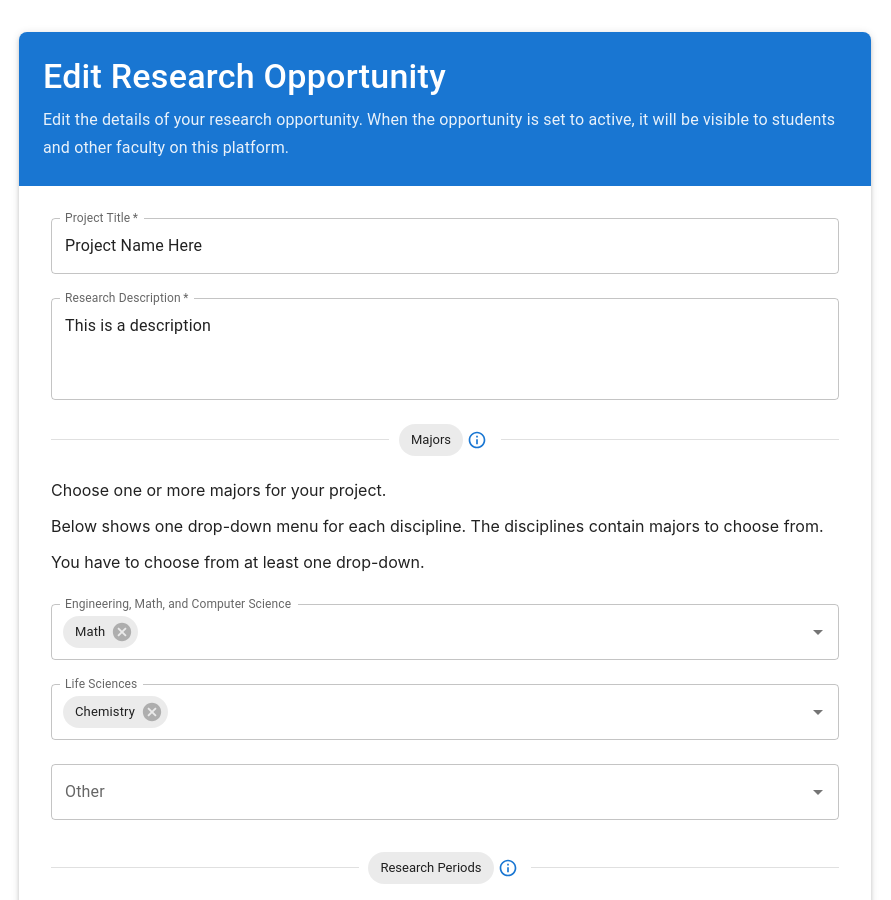
Test: ProjectEdit › displays an error message when submission fails
This screenshot has width=891, height=900.
Replace the text in the field labelled "Project Title *" with "My Special Secret Research New Name": coordinates (445, 246) [51,218,839,274]
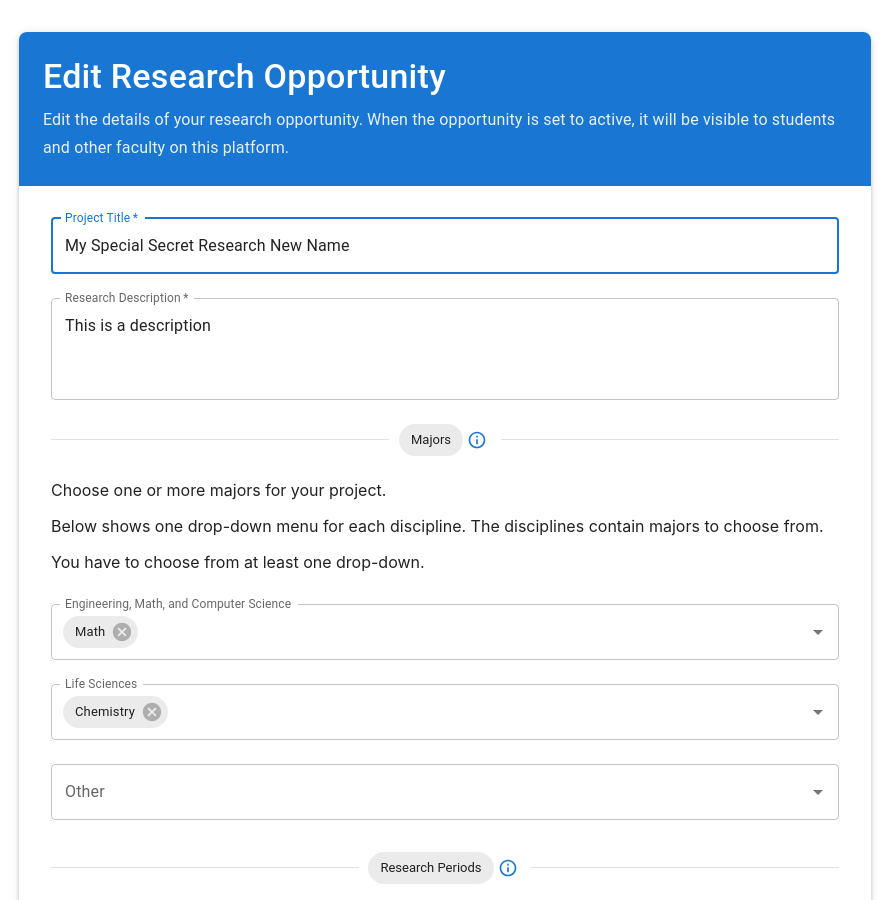
In the text box labelled "Research Description *": coordinates (445, 349) [65,314,825,384], type "This is a new description"
(page scrolled)
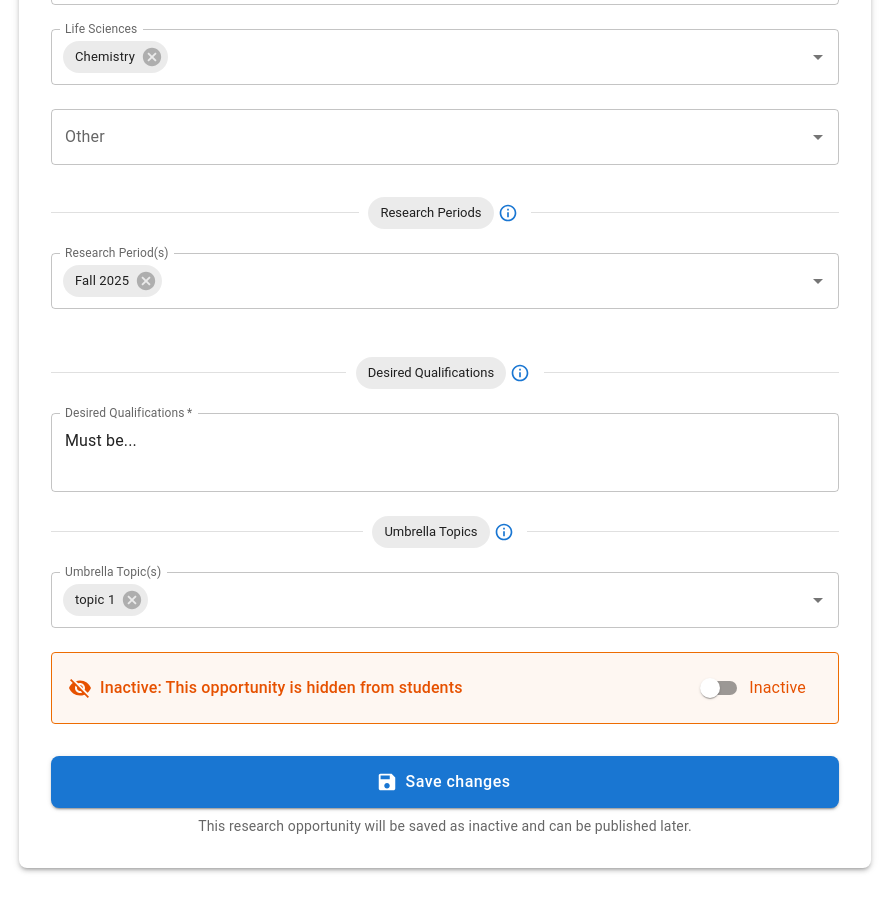
Click the button with aria-label "Submit": coordinates (445, 782) [51,756,839,808]
(page scrolled)
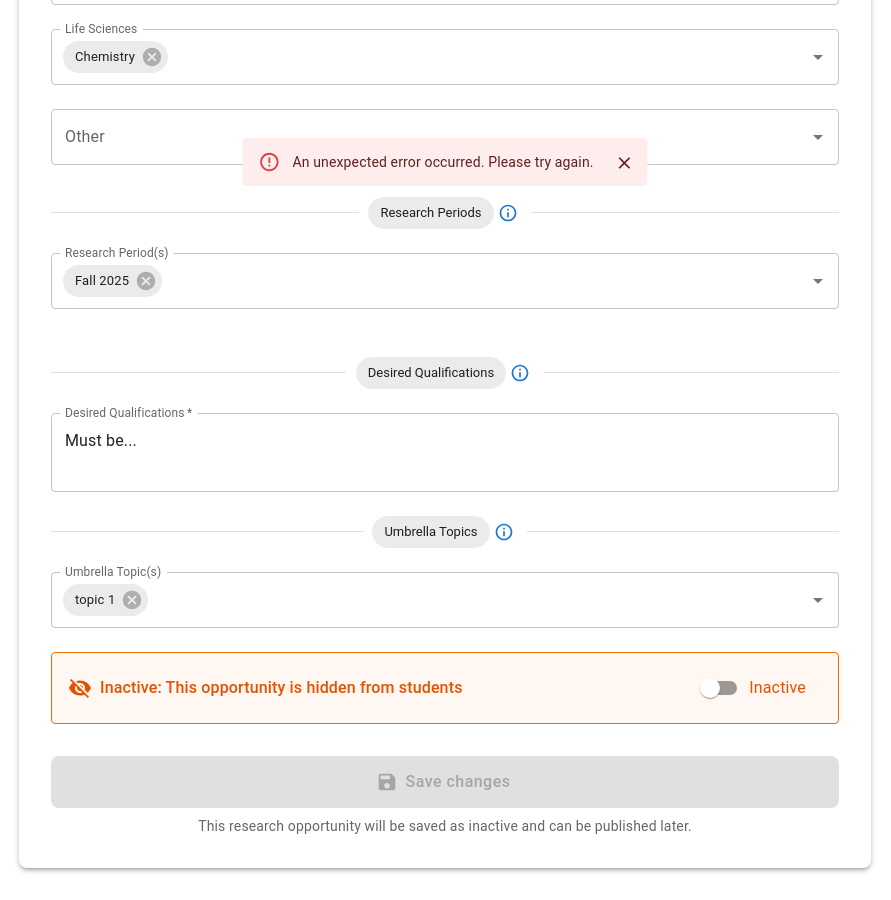
Expected: the text "An unexpected error occurred. Please try again." is shown, [292,154,594,170]
